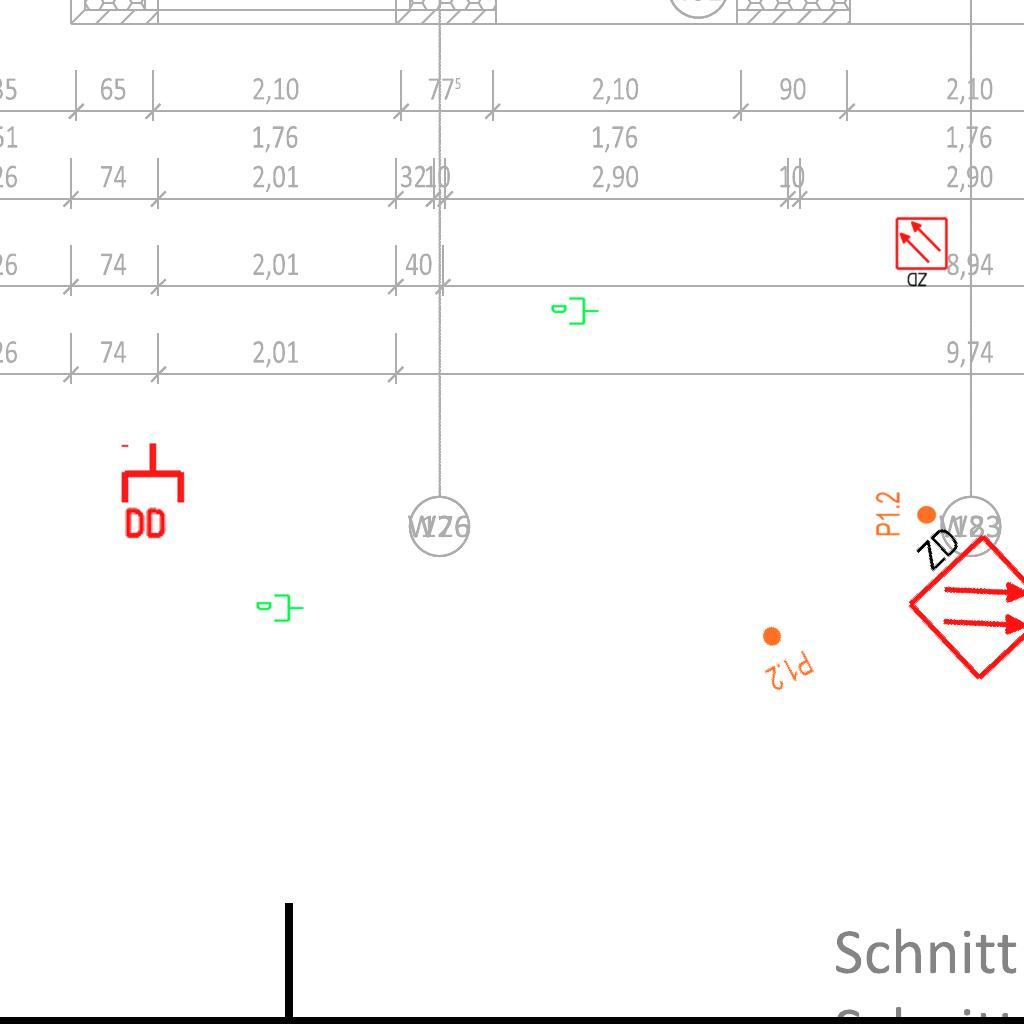Datenanschluss_einfach: (550, 295, 600, 329), (255, 592, 305, 626)
Datenanschluss_zweifach: (120, 440, 189, 543)
Downlight_LED_Einbauleuchten_Flur: (745, 615, 817, 695), (874, 491, 938, 537)
ZD_Melder_in_Zwischendecke_mit_Revisionsoeffnung_mind_40_x_40_cm: (874, 501, 1024, 688), (894, 216, 951, 290)
